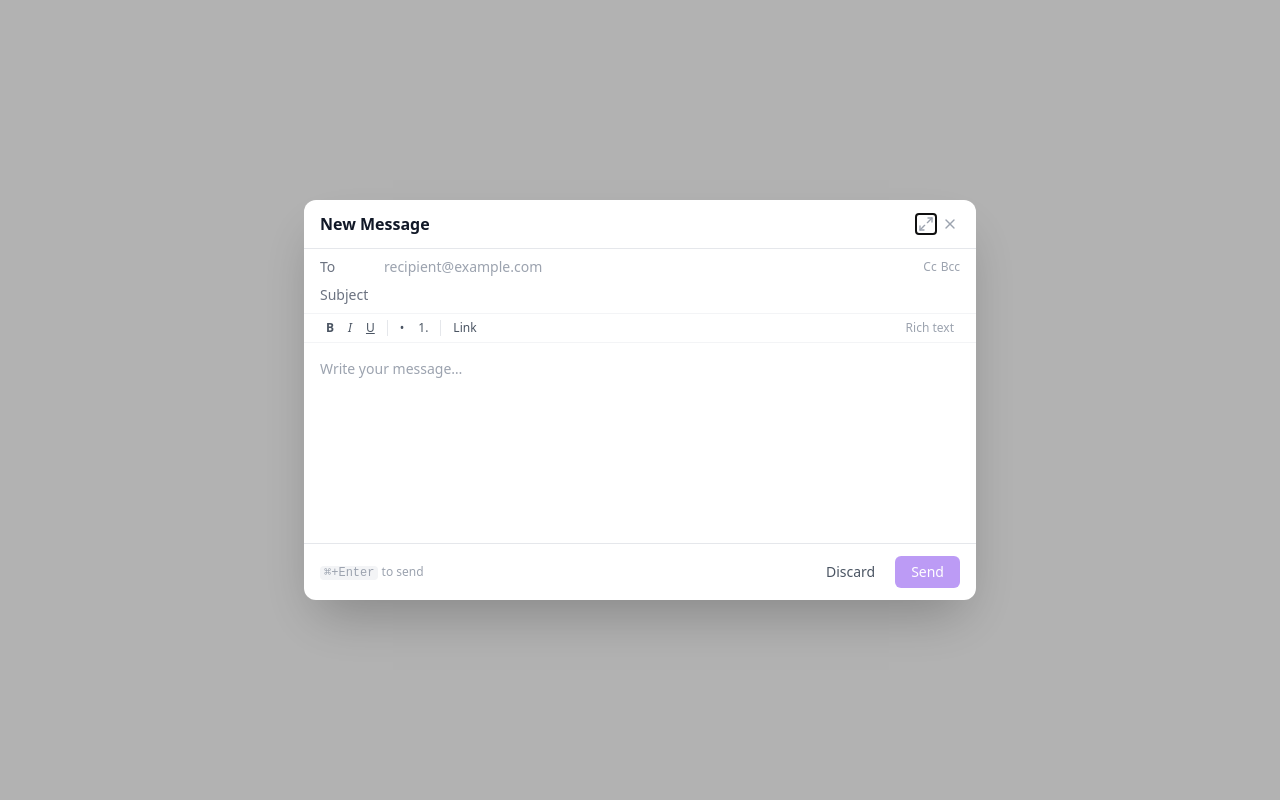
Test: ComposeModal › shows validation error for invalid email in To field
Type "not-an-email" into the field with placeholder "recipient@example.com" at [650, 267], box [384, 257, 915, 277]
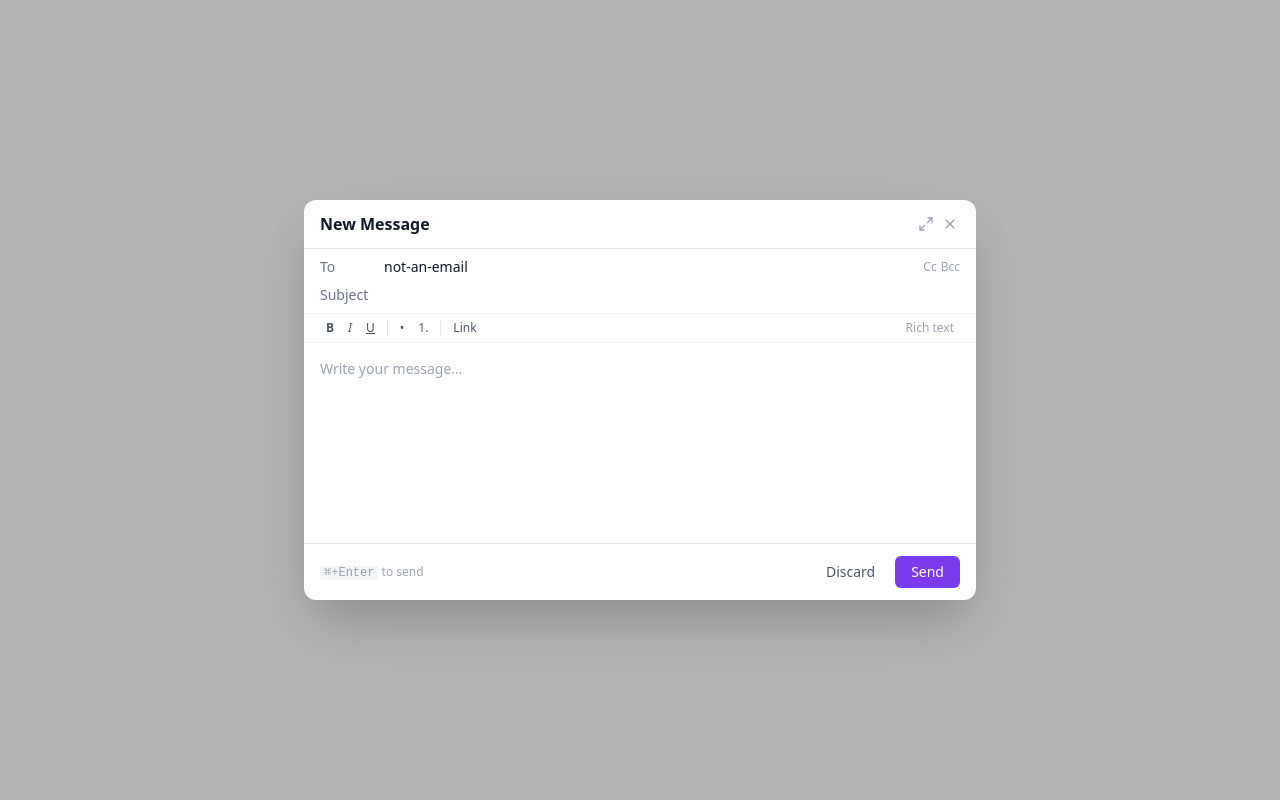
Click the button "Send" at [928, 572], box [895, 556, 960, 588]
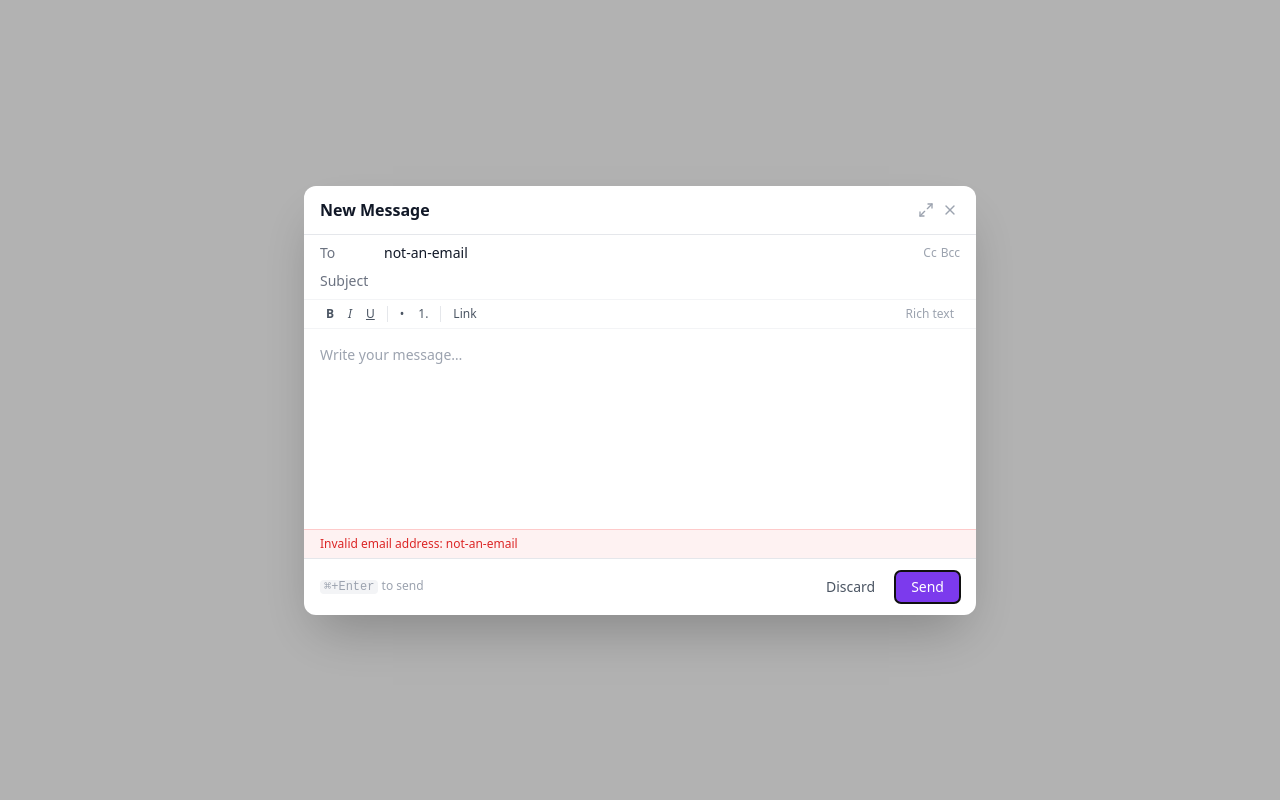
Check: the text "Invalid email address: not-an-email" is shown, box [304, 528, 976, 558]
